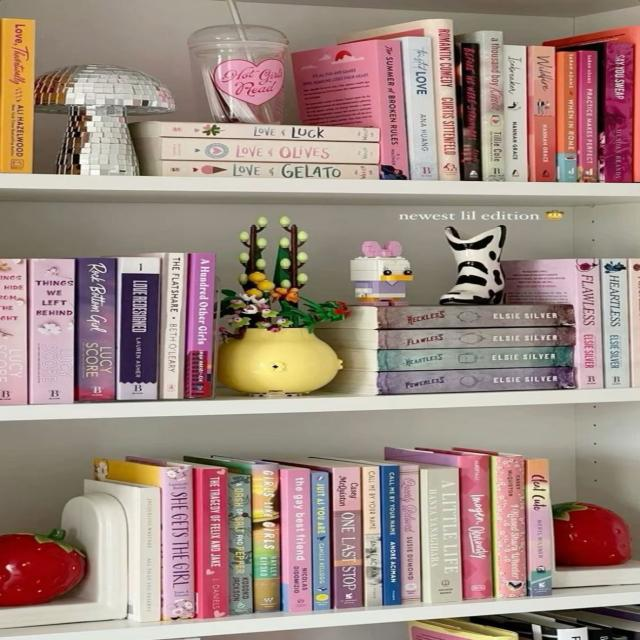book: (30, 258, 74, 404), (161, 138, 381, 164), (119, 257, 159, 400), (162, 465, 196, 620), (78, 259, 115, 400), (377, 368, 577, 394), (427, 468, 463, 603), (494, 455, 528, 597), (1, 19, 32, 174), (376, 347, 573, 371), (460, 455, 492, 599), (377, 306, 575, 329), (187, 252, 218, 398), (378, 40, 409, 180), (379, 328, 574, 350), (252, 465, 281, 612), (0, 259, 29, 405), (199, 468, 227, 619), (432, 18, 458, 180), (408, 37, 437, 180), (334, 466, 362, 609), (159, 124, 379, 142), (605, 42, 632, 182), (575, 258, 604, 388), (601, 259, 630, 388), (162, 162, 380, 179), (286, 468, 311, 612), (502, 45, 528, 182), (228, 476, 253, 615), (482, 31, 504, 181), (527, 459, 551, 596), (532, 46, 556, 182), (162, 253, 184, 399), (399, 465, 422, 602), (140, 488, 161, 622), (363, 467, 383, 607), (382, 465, 402, 605), (312, 472, 331, 610), (462, 43, 481, 180), (580, 51, 598, 182), (564, 51, 578, 182)
